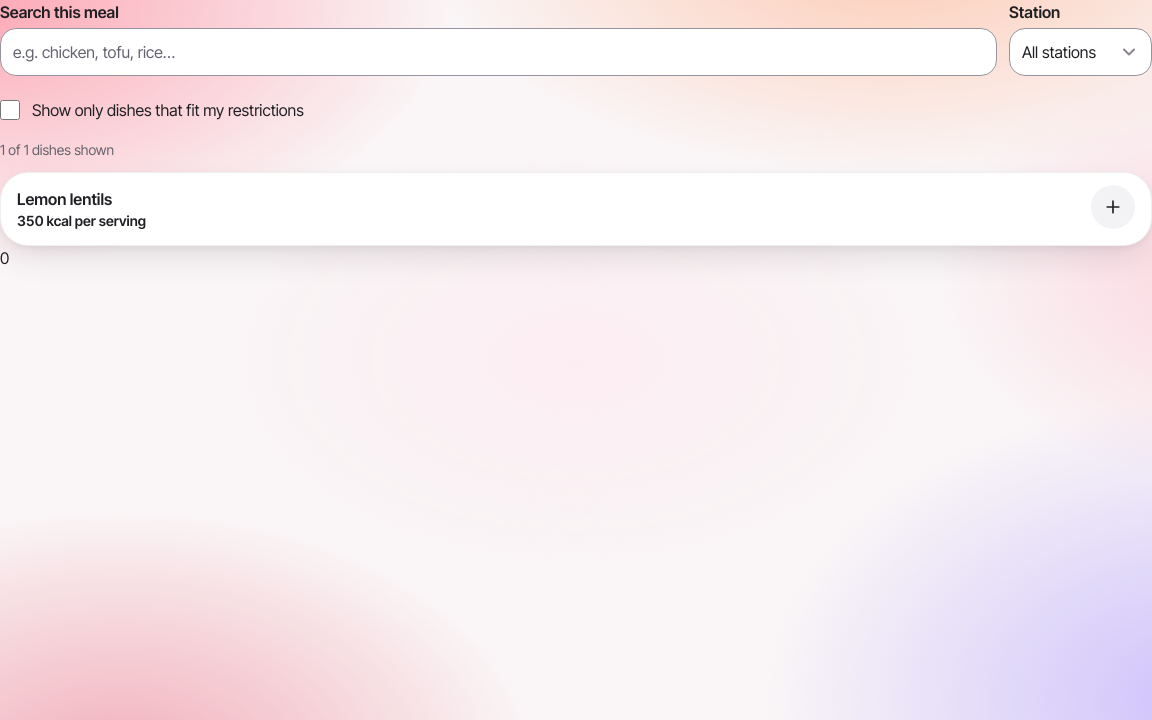
Test case: compact menu interaction › leads with the dish and calories while opening ordinary details in the existing dialog
Expected: the text "350 kcal per serving" is shown, [17,211,146,231]
Click the button "Lemon lentils 350 kcal per serving": (65, 199) [17,185,1079,233]
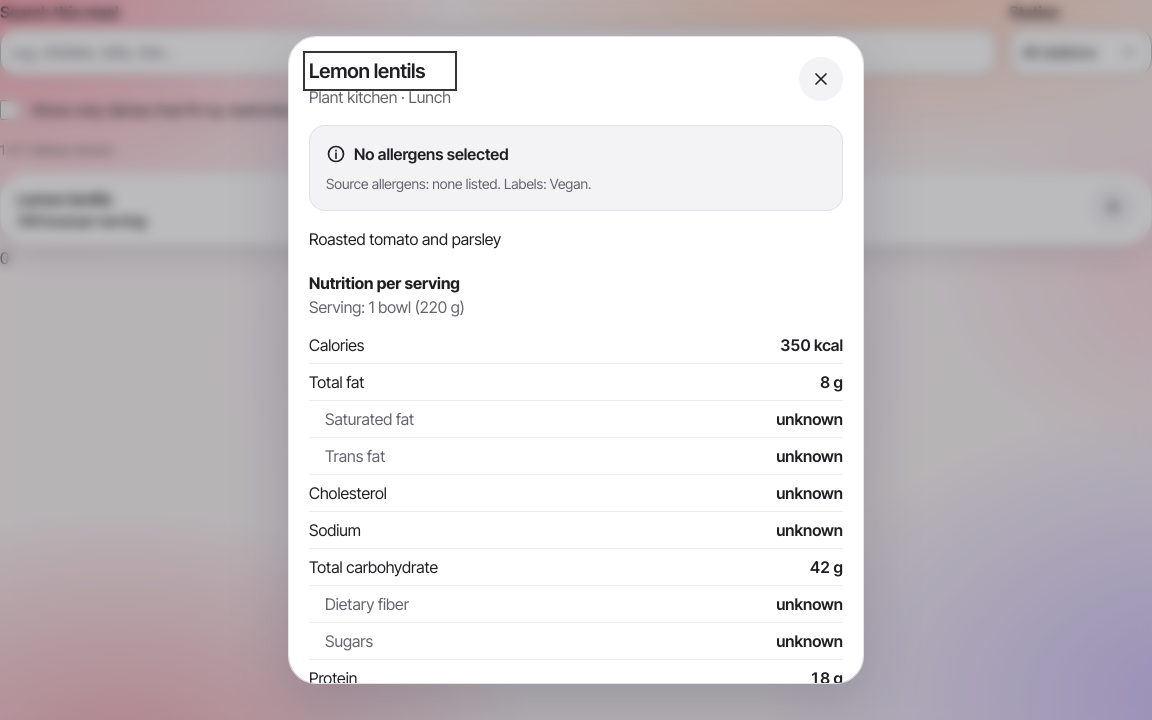
Result: the text "Plant kitchen · Lunch" is shown at [309,85,451,109]
Result: the text "Serving: 1 bowl (220 g)" is shown at [309,297,465,317]
Result: the row "Protein 18 g" is shown at [309,660,843,684]
